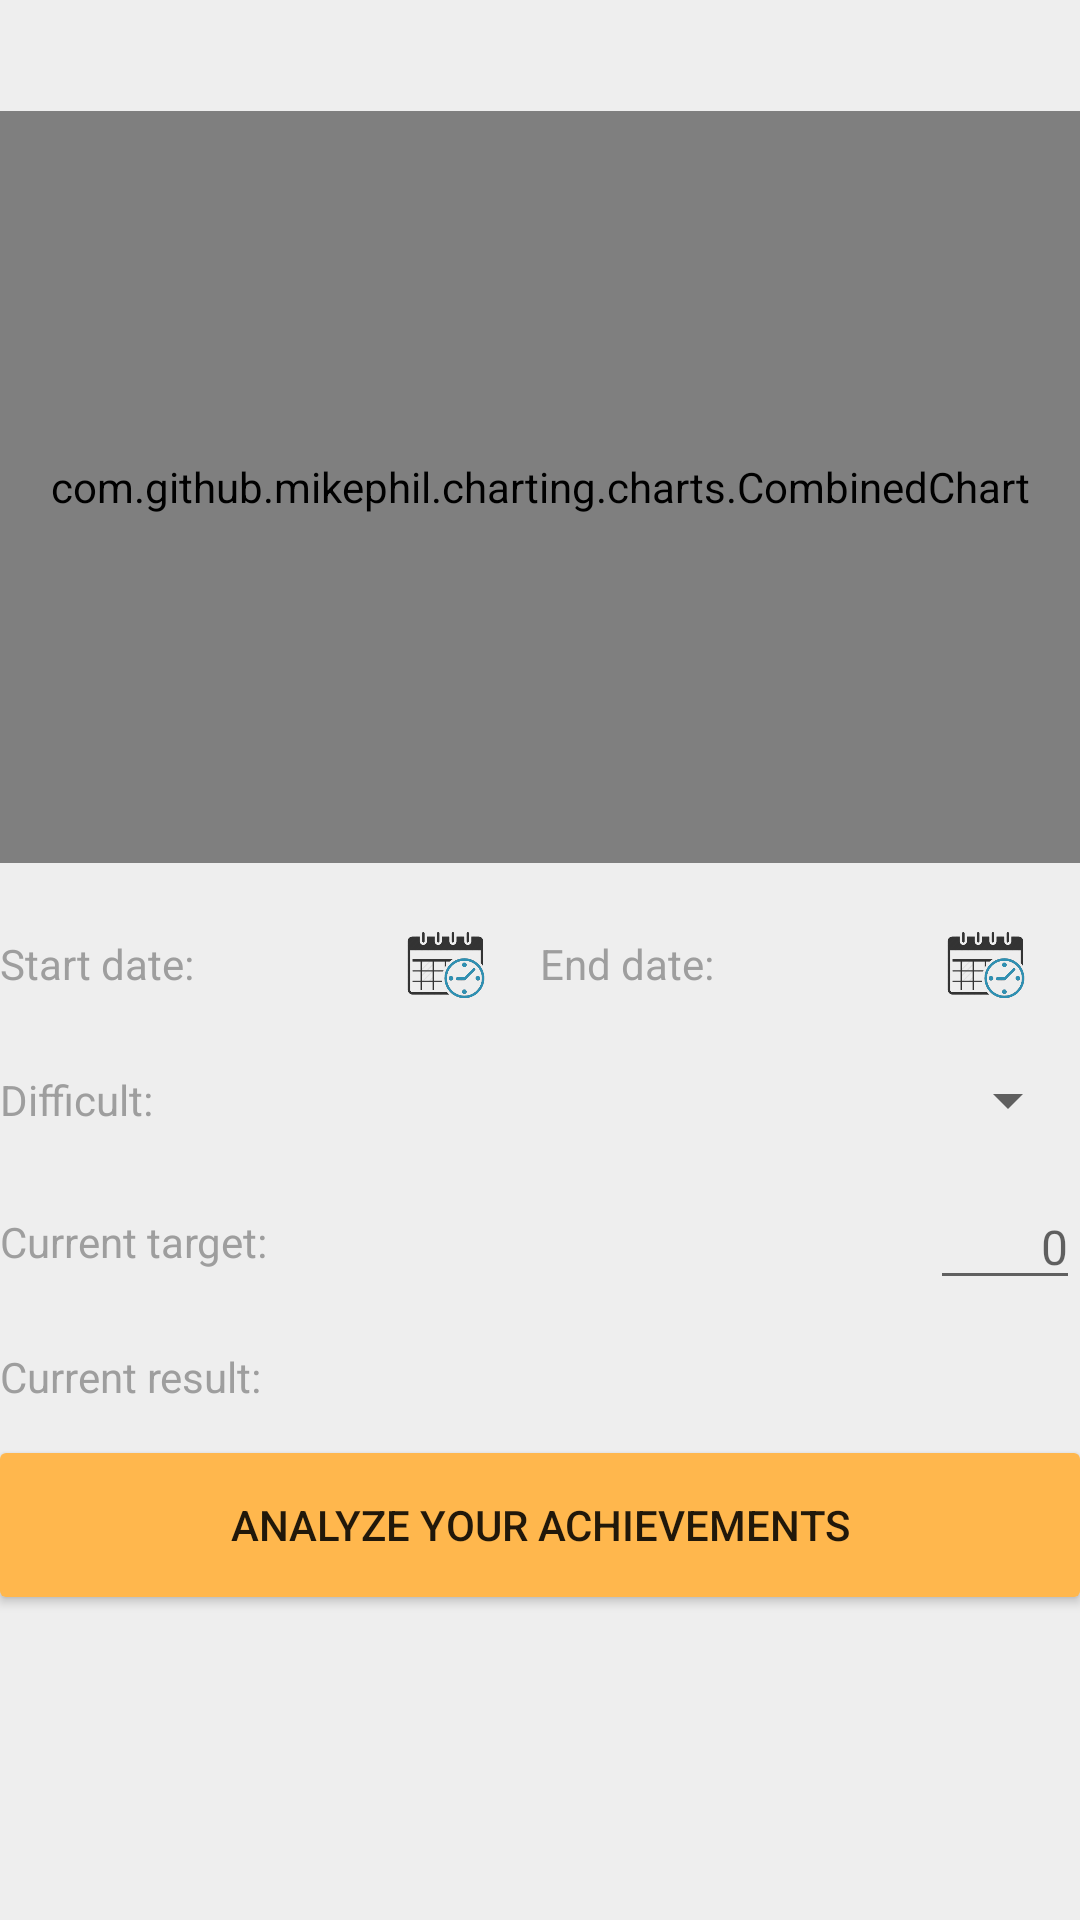

Where icons sit on this 1080px×1920px app screen, as (x1, y1, x2, y2):
calendar: (407, 932, 485, 998), (947, 932, 1025, 998)
